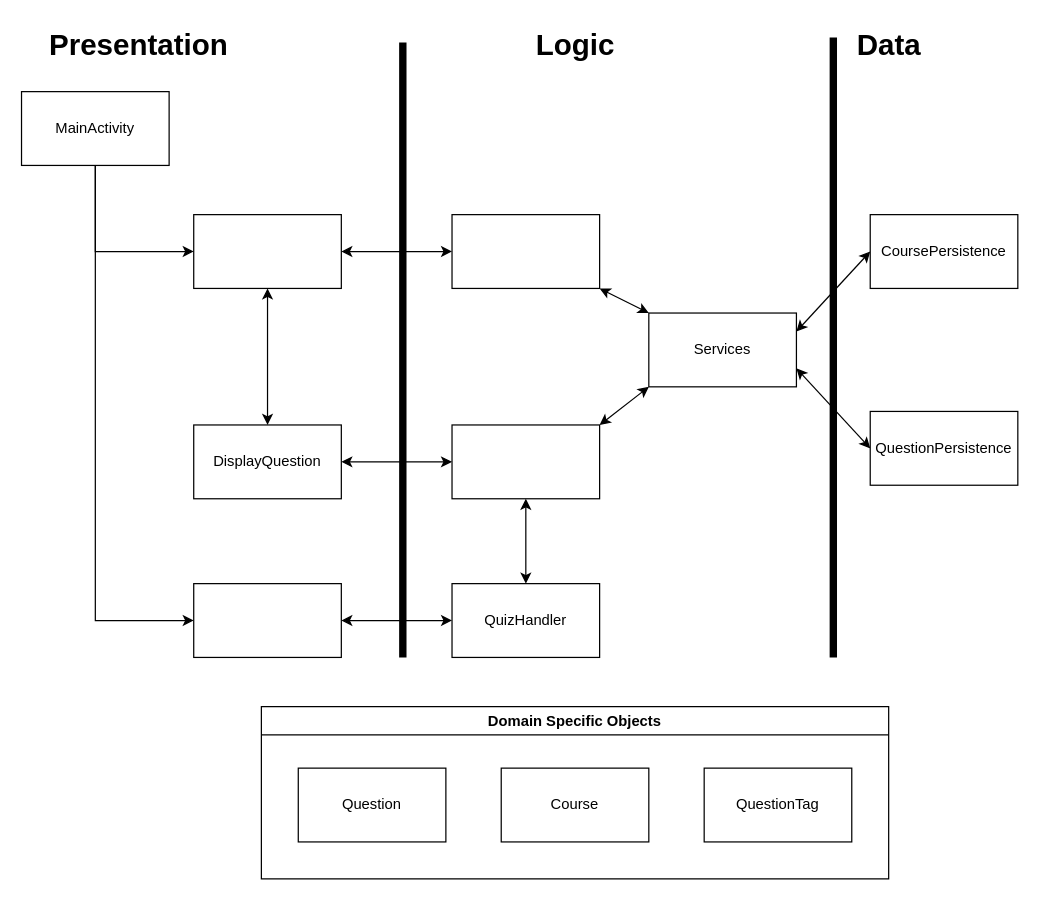
The diagram is 1039 pixels wide and 900 high, and some of its shapes have lost their labels. Each missing label, with the centre of its shape:
"CourseHandler" belongs at (x=525, y=250).
"CoursesFragment" belongs at (x=266, y=250).
"QuestionHandler" belongs at (x=525, y=461).
"QuizGame" belongs at (x=266, y=619).
